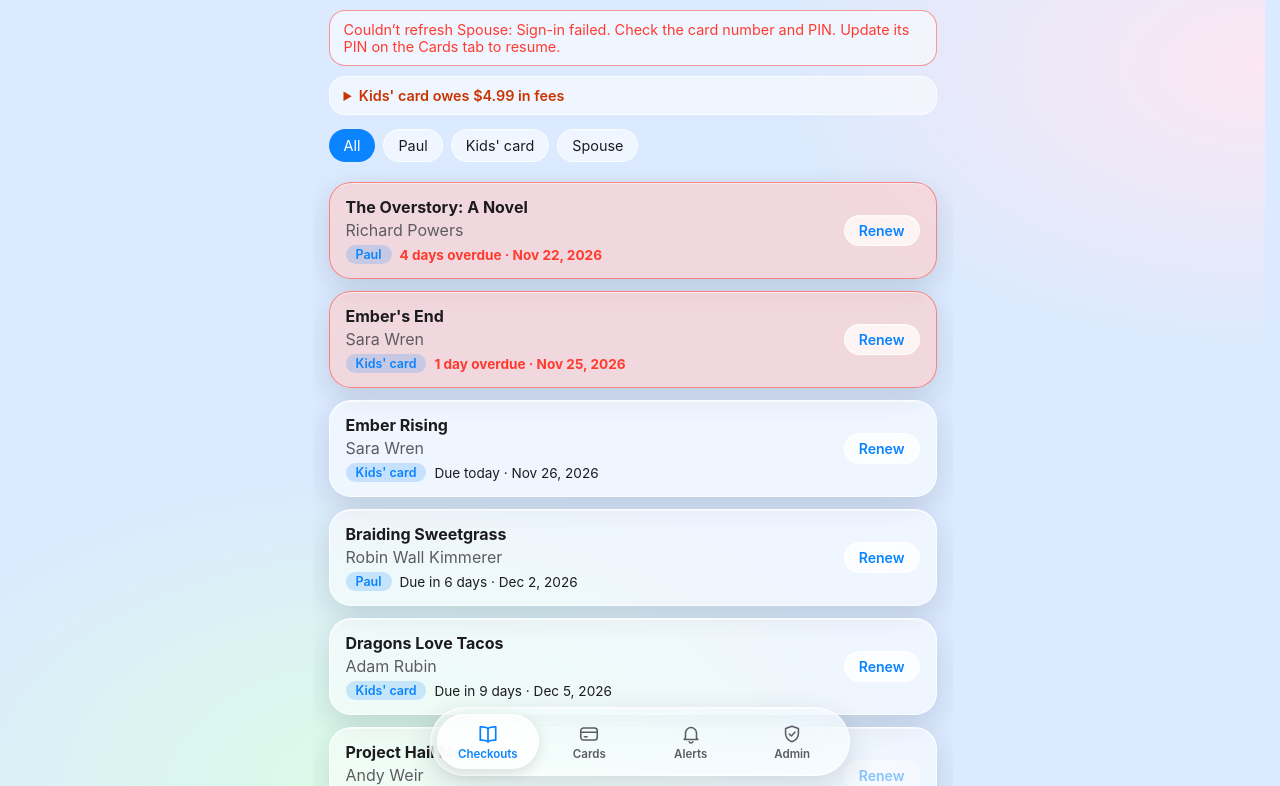
Test case: App › lets the admin invite, disable and delete users
Step 1. Click the link "Admin" → point(792, 742), box [774,723,810,761]
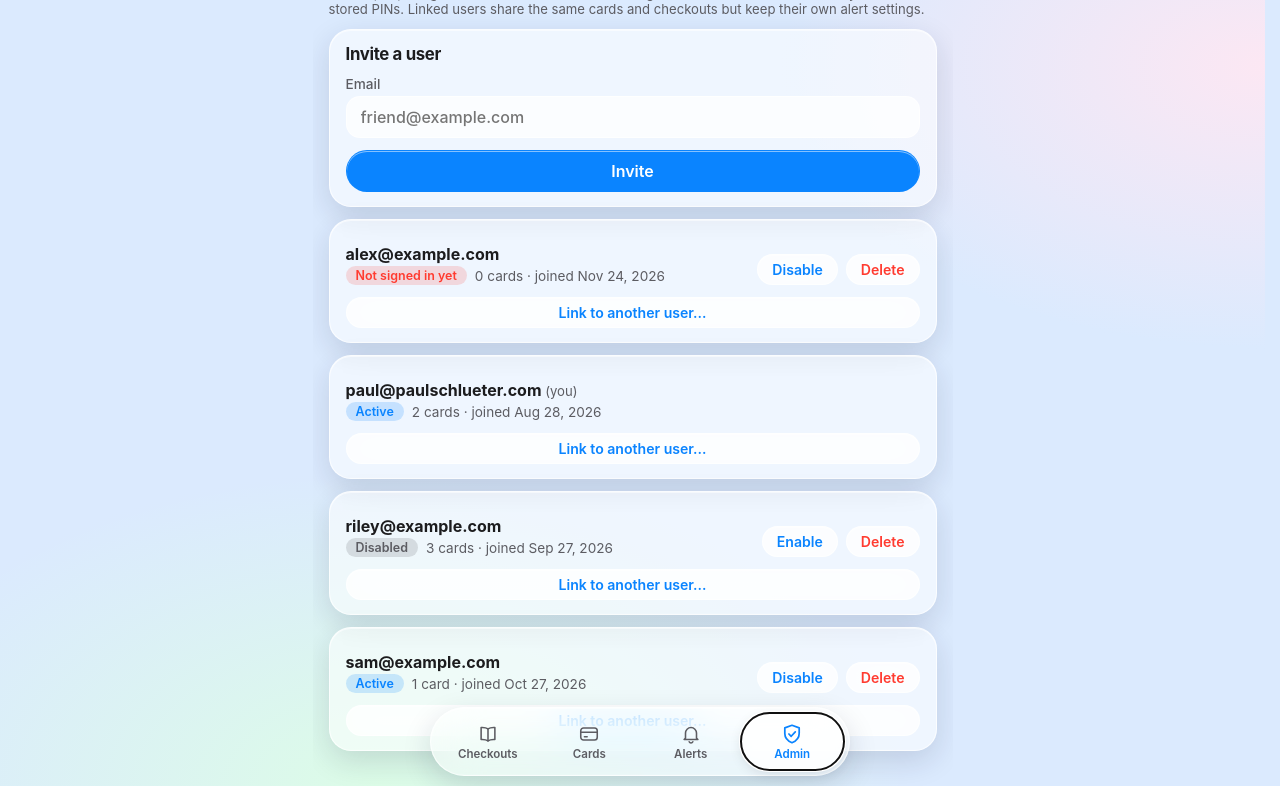
Now the number of list items with test id "user" is 4, box [328,219,936,343]; [328,355,936,479]; [328,491,936,615]; [328,627,936,751]
Now the text "(you)" is shown, box [542,383,578,399]
Step 2. Type "new@example.com" into the field labelled "Email" → point(632, 117), box [346,96,920,138]
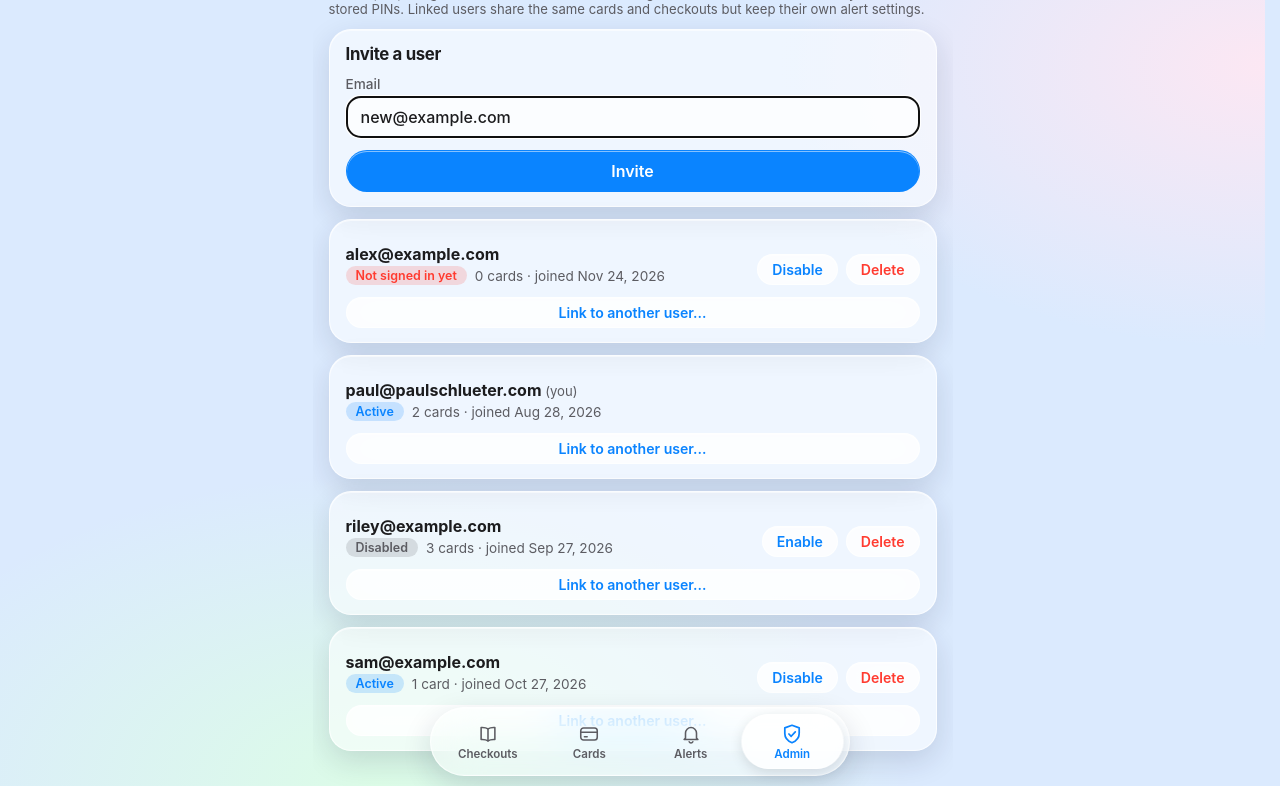
Step 3. Click the button "Invite" → point(632, 171), box [346,150,920,192]
(page scrolled)
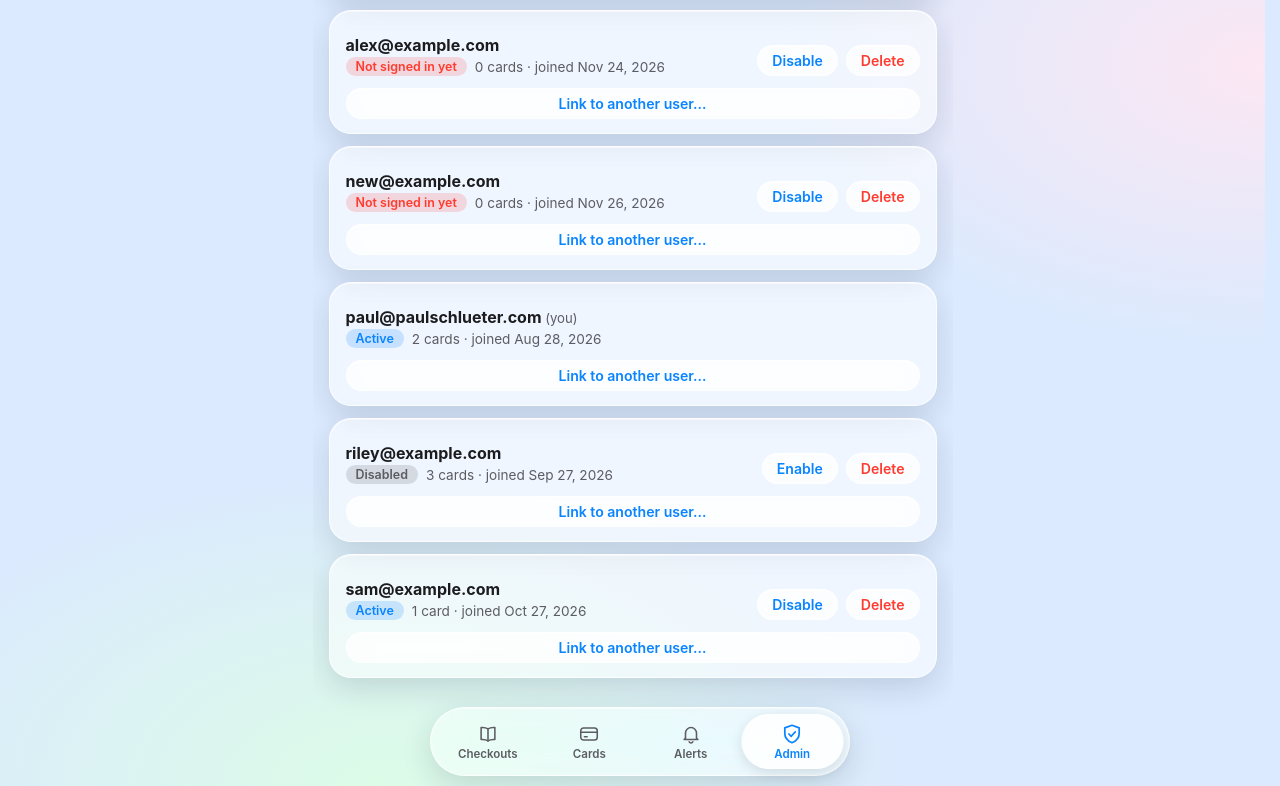
Now the text "new@example.com" is shown, box [346,171,500,191]
Step 4. Click the button "Disable" in the row of "· joined Oct 27, 2026" → point(798, 604), box [757,589,838,620]
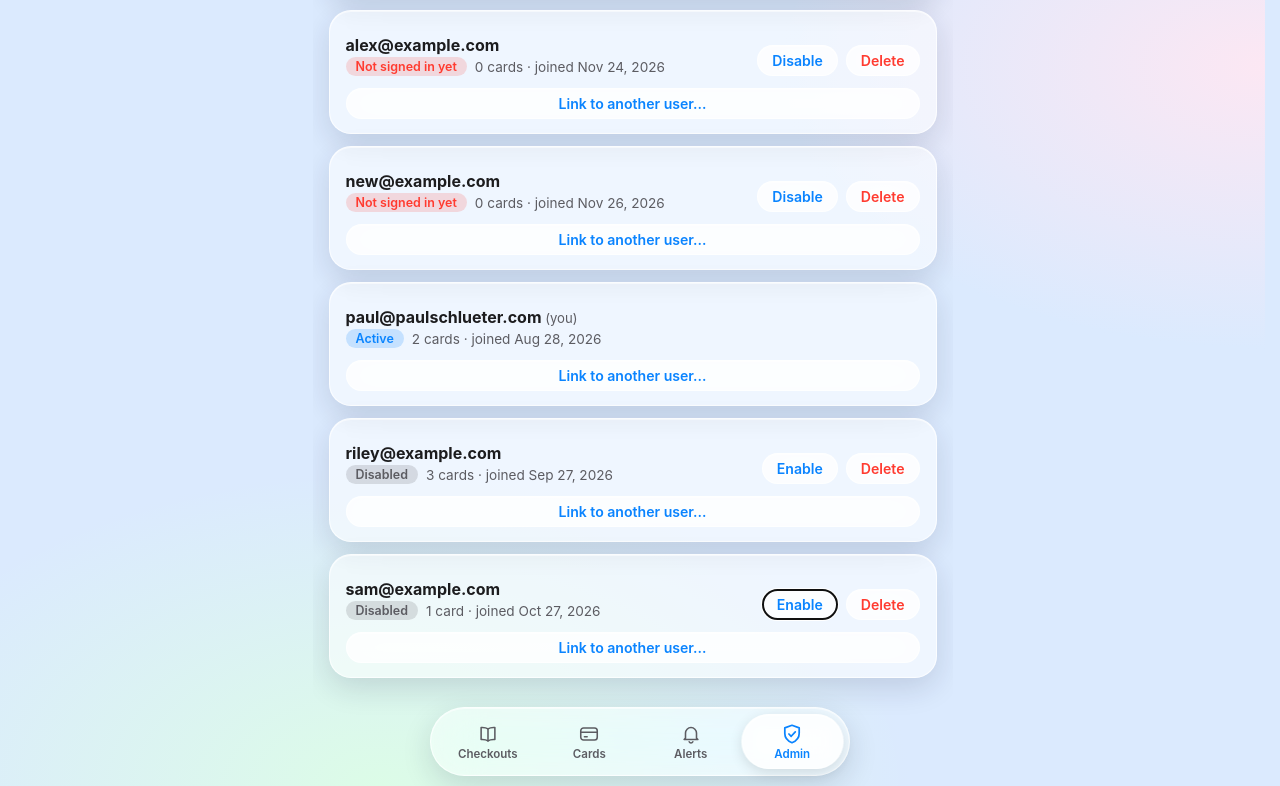
Now the text "Disabled" in the row of "· joined Oct 27, 2026" is shown, box [356,603,408,618]
Step 5. Click the button "Delete" in the row of "· joined Oct 27, 2026" → point(883, 604), box [846,589,920,620]
(page scrolled)
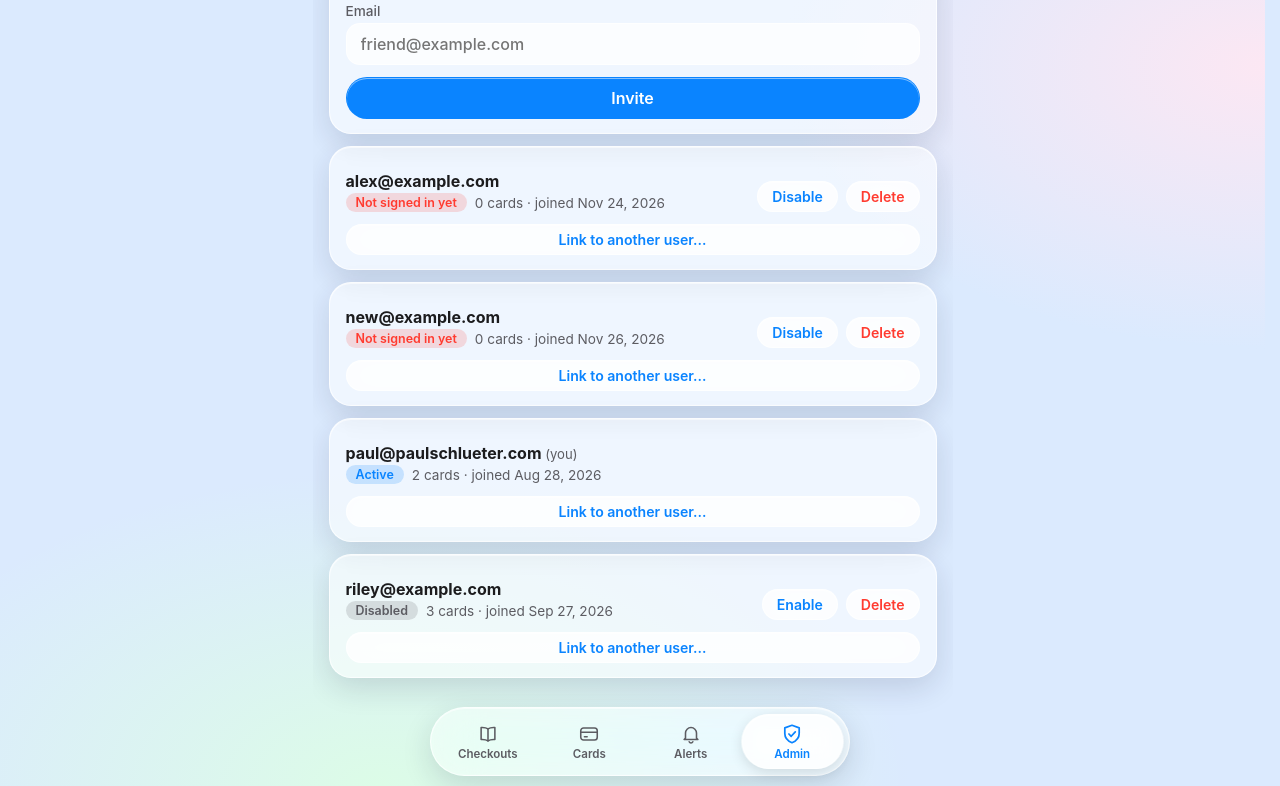
Now the text "sam@example.com" is gone
